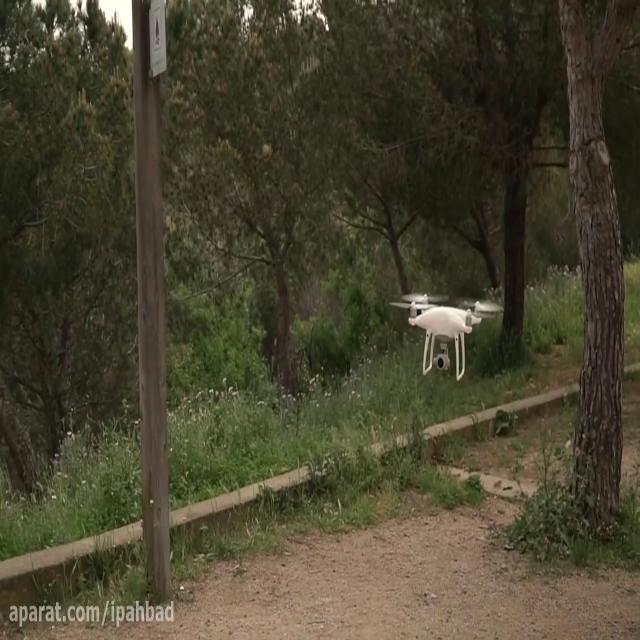drone: (388, 288, 502, 379)
